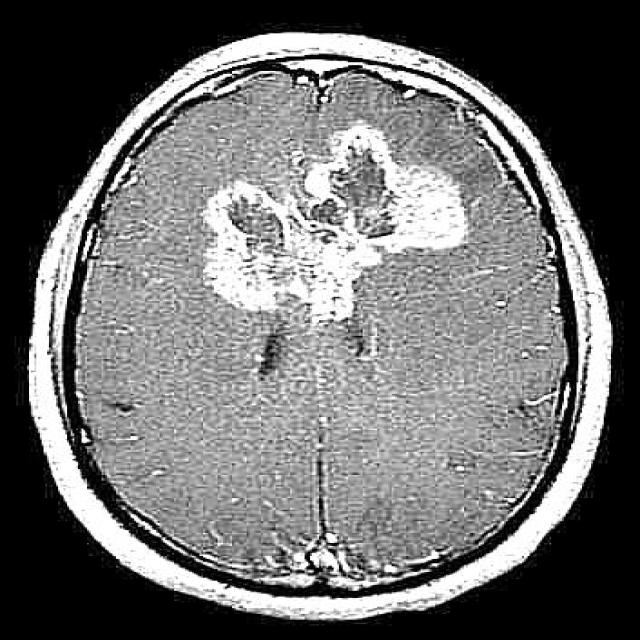Tumor-Cell: (177, 137, 505, 314)
